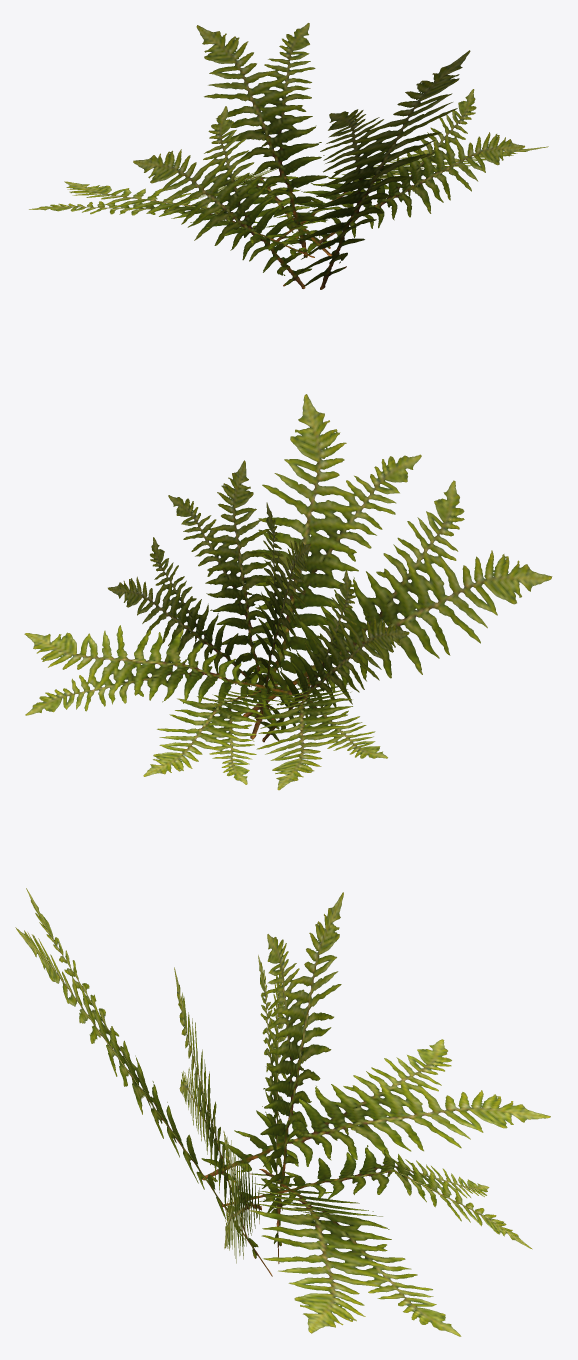
Rendered from plants_k002.FBX.
3 renders of one model, top to bottom at view 1: azimuth 30°, elevation 25°; view 2: azimuth 150°, elevation 25°; view 3: azimuth 270°, elevation 25°, orthographic. The views are drawn at different scales.
Parts seen in each view (by area): view 1: plants_k002; view 2: plants_k002; view 3: plants_k002.
Boxes of the visible parts, x1,y1,x2,y2 form: plants_k002: (29, 23, 548, 289); plants_k002: (24, 394, 552, 790); plants_k002: (15, 888, 550, 1336).
Size of the model in its own units: 4.46 by 3.01 by 3.38.
1 material, 1 textured.
